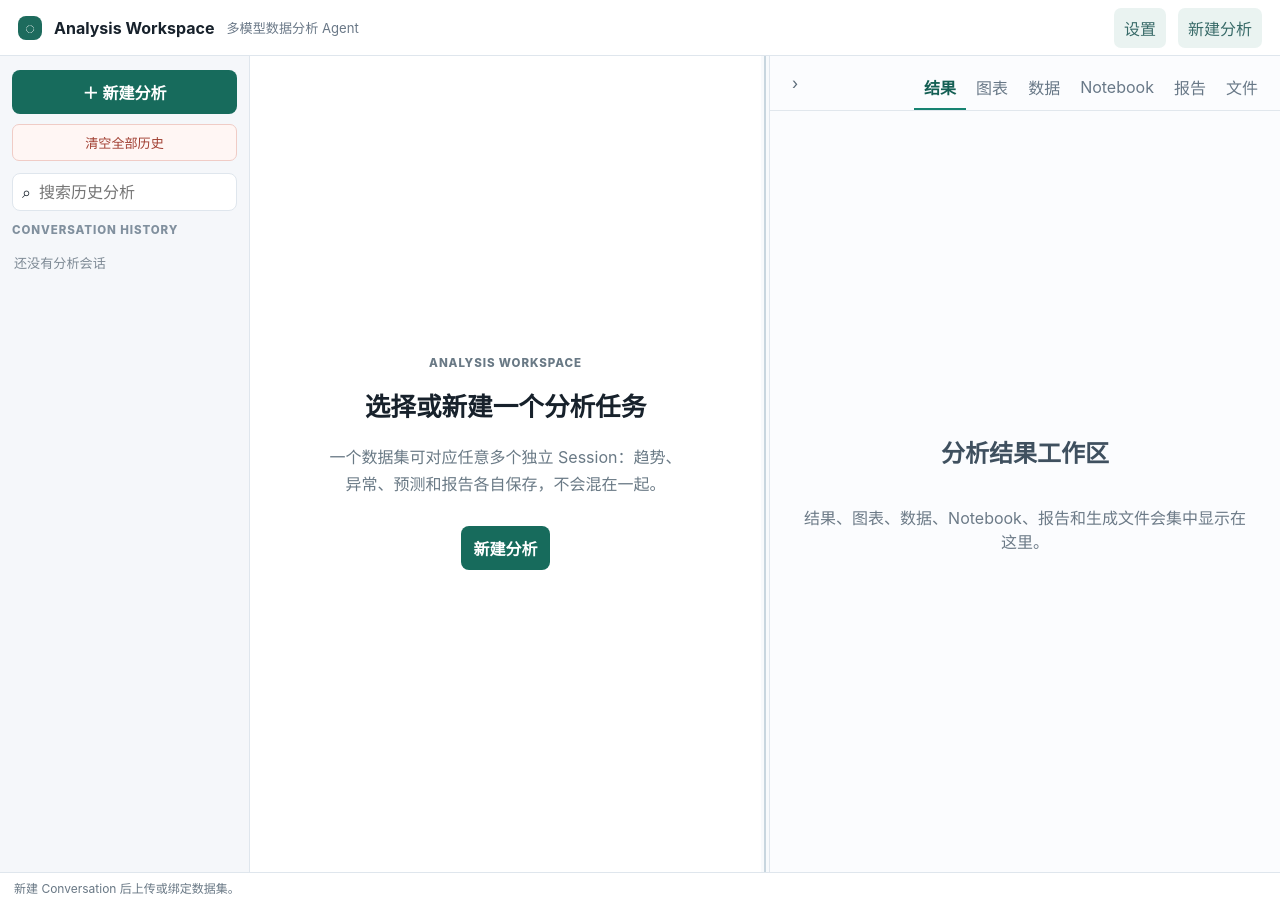
it: shows only masked provider configuration in settings
The image size is (1280, 900).
Step 1. Click the button "设置" → [1140, 28], box top-left (1114, 8), bottom-right (1166, 48)
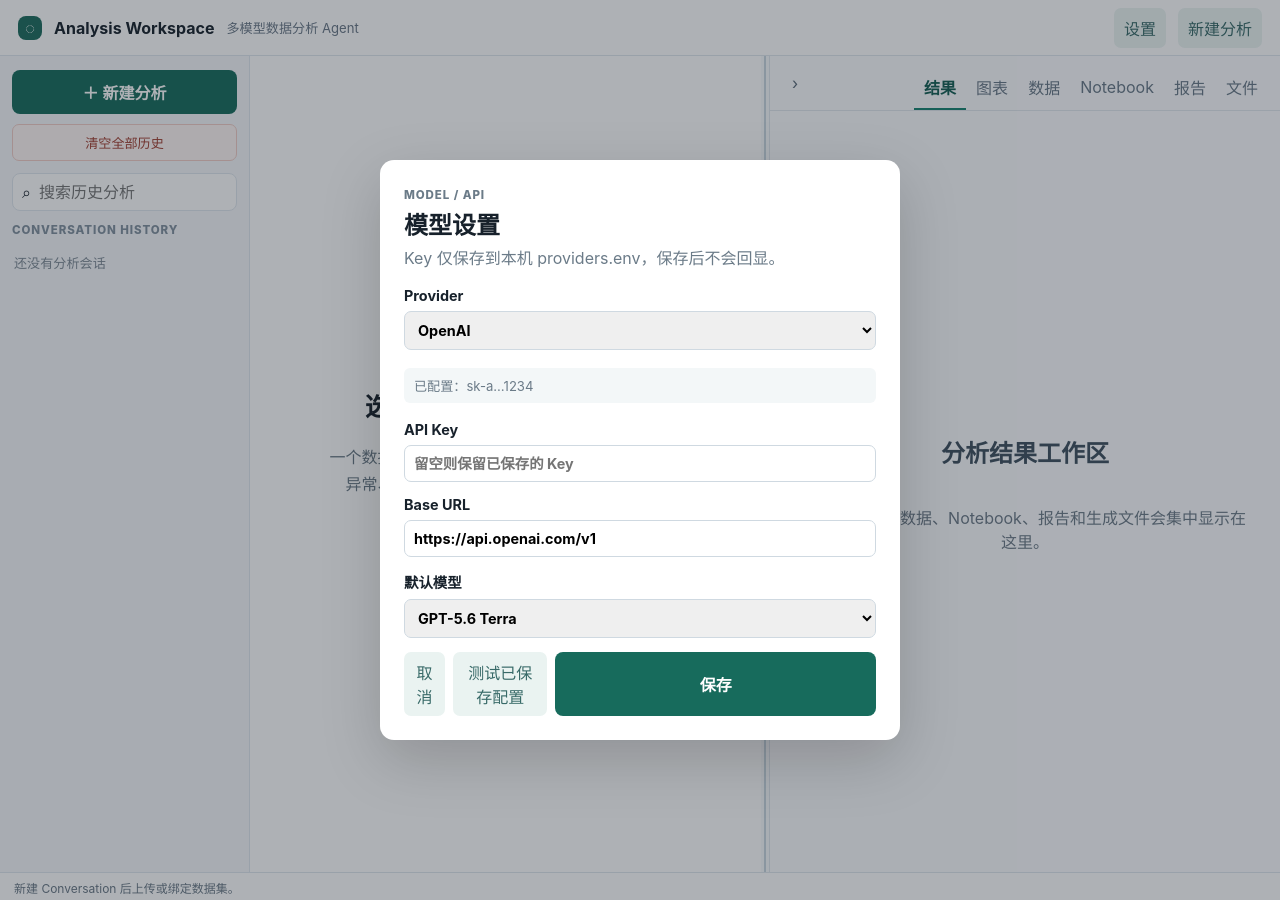
Check: the text "已配置：sk-a…1234" is shown, box top-left (404, 368), bottom-right (876, 403)
